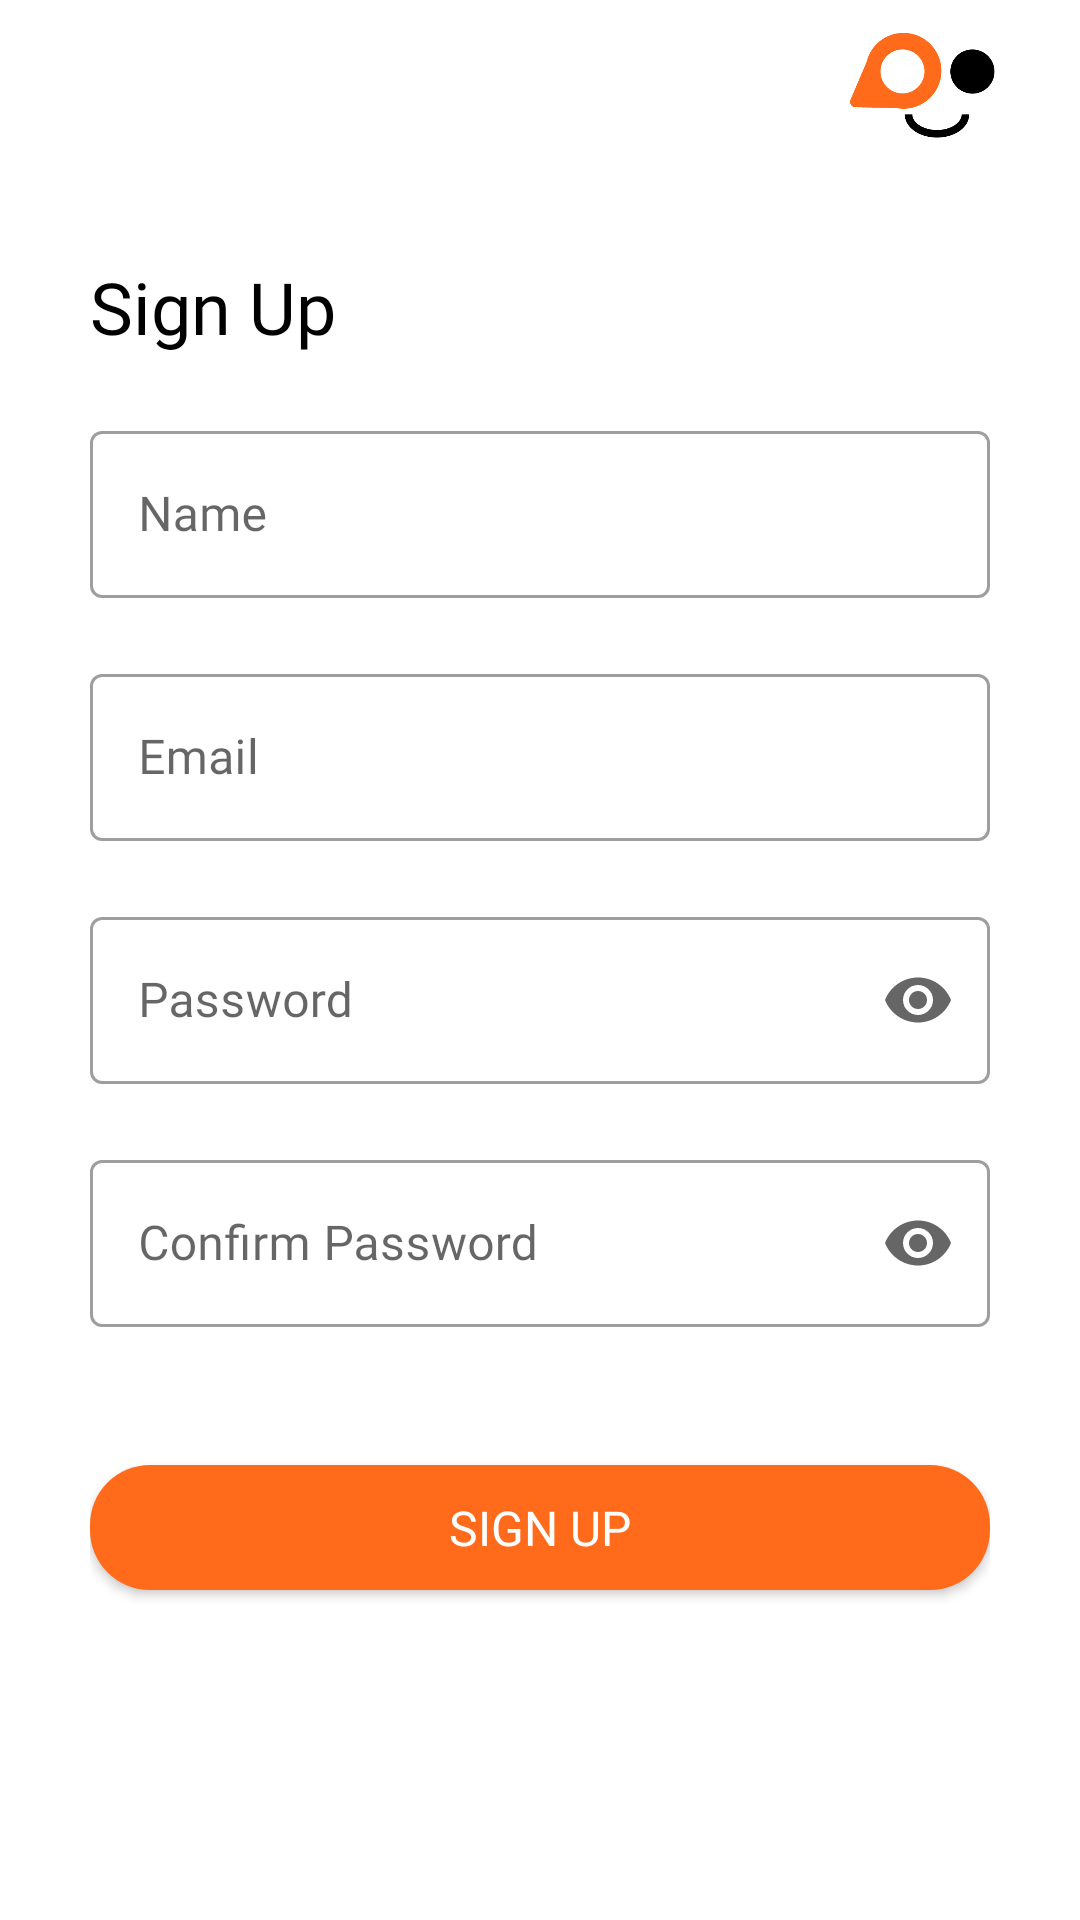

Screen size 1080 × 1920. Icon name, then its center in pixels as (x,y):
teman travelling: (922,85)
